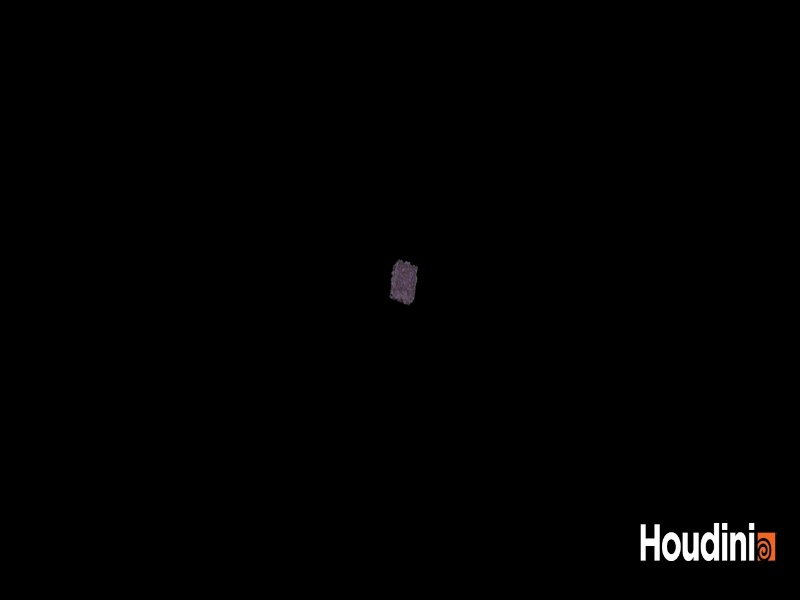waste: (383, 250, 429, 314)
